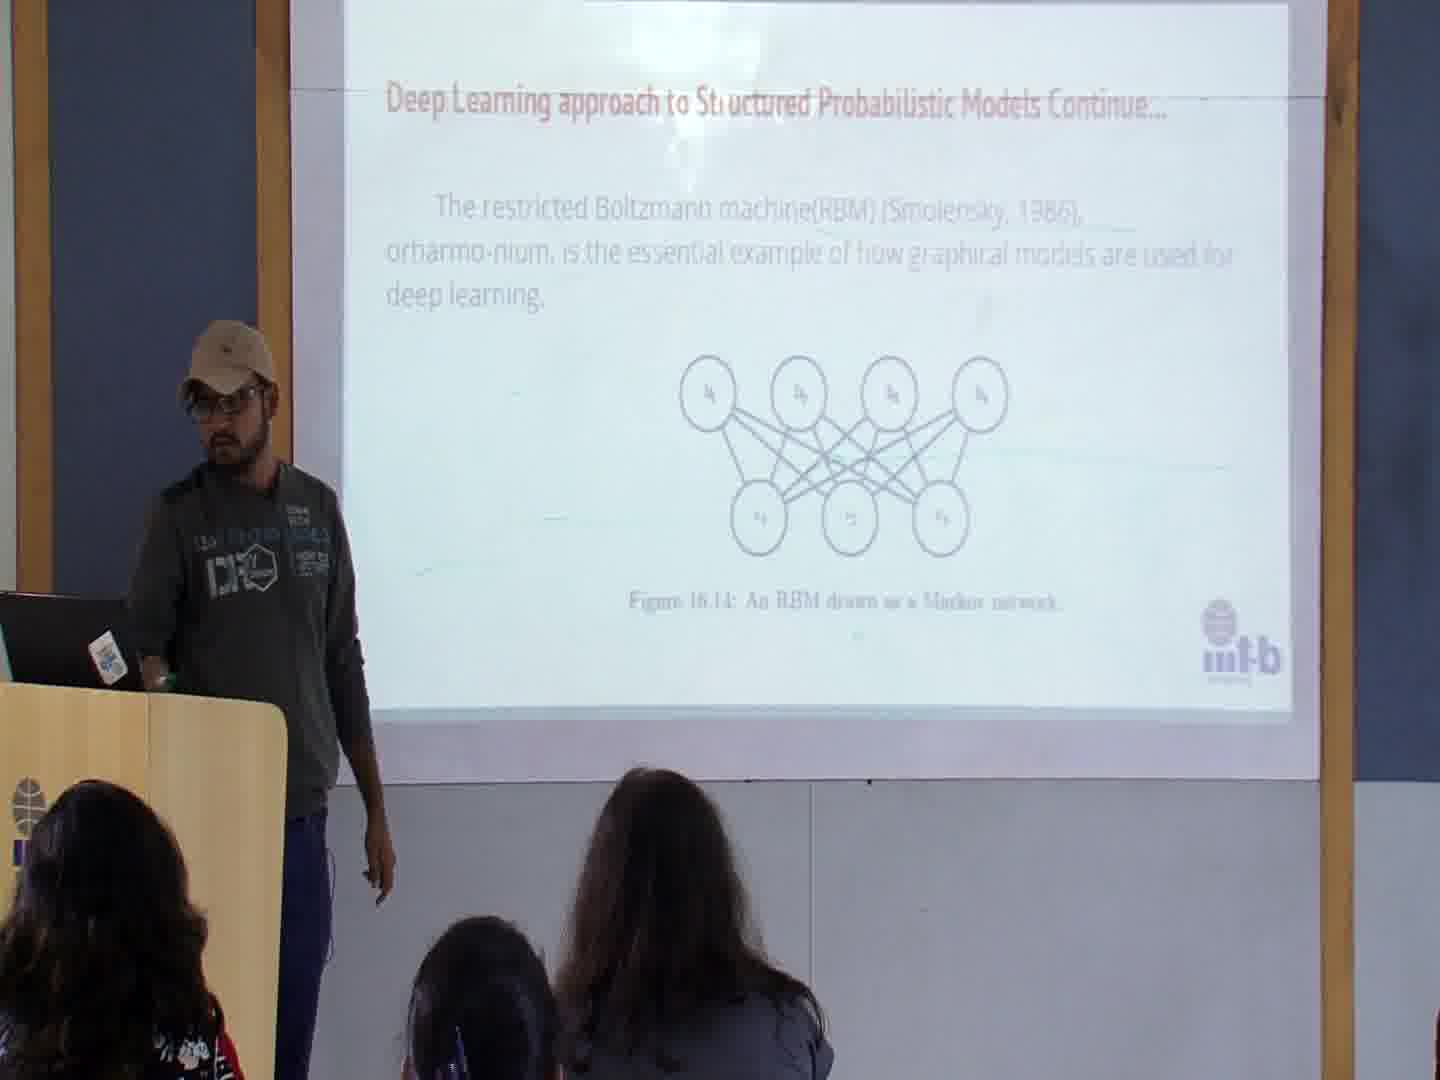slide: (344, 1, 1290, 722)
